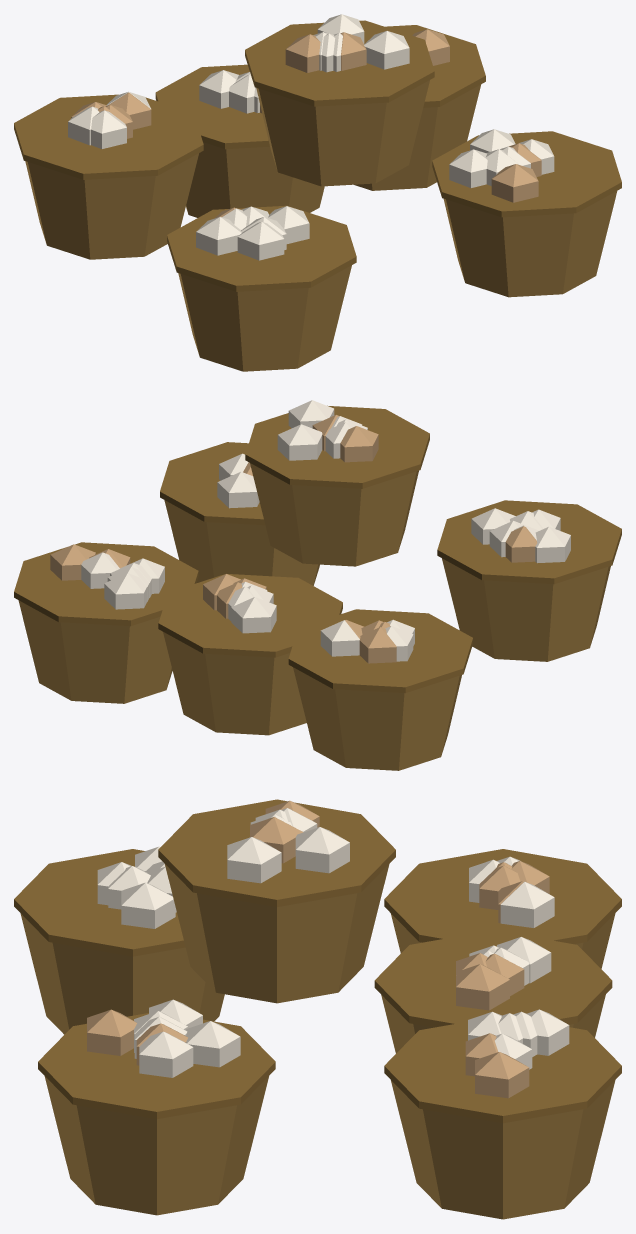
The model's file is pile_eggs_3.glb.
The picture shows the model from 3 angles, top to bottom: view 1: azimuth 30°, elevation 25°; view 2: azimuth 150°, elevation 25°; view 3: azimuth 270°, elevation 25°; orthographic projection. The views are drawn at different scales.
Parts seen in each view (by area): view 1: pile_eggs_3; view 2: pile_eggs_3; view 3: pile_eggs_3.
Part boxes in pixels (x1,y1,x2,y2): pile_eggs_3: [14, 14, 621, 371]; pile_eggs_3: [14, 400, 621, 770]; pile_eggs_3: [14, 799, 621, 1219].
Bounding box in the file's own units: 1.31 × 0.648 × 1.26.
